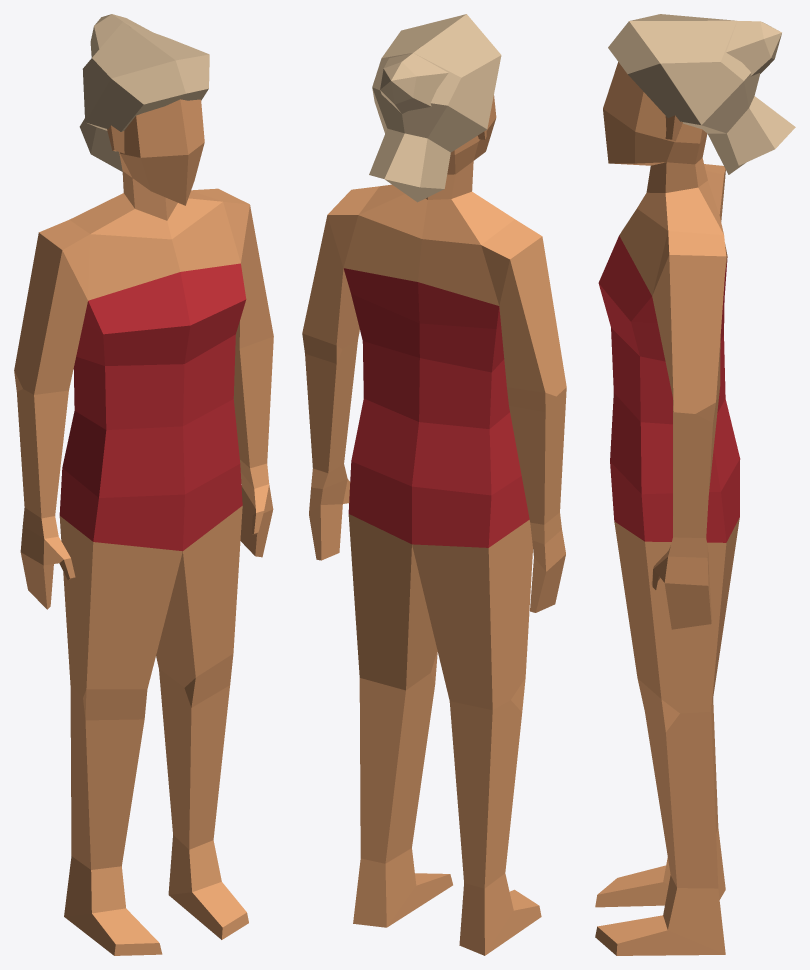
The model's file is woman-swimming-guard.fbx.
3 views of the same model, side by side, from view 1: azimuth 30°, elevation 25°; view 2: azimuth 150°, elevation 25°; view 3: azimuth 270°, elevation 25° (orthographic). The views are drawn at different scales.
Parts seen in each view (by area): view 1: woman-swimming-guard; view 2: woman-swimming-guard; view 3: woman-swimming-guard.
Part boxes in pixels (x1=…): woman-swimming-guard: x1=14, y1=14, x2=273, y2=955; woman-swimming-guard: x1=302, y1=14, x2=566, y2=955; woman-swimming-guard: x1=595, y1=14, x2=795, y2=955.
Size of the model in its own units: 0.5287 by 1.84 by 0.3708.
